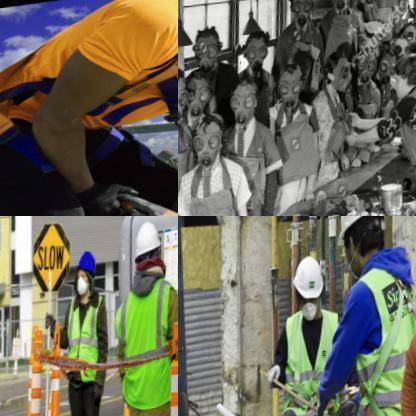Boots: (292, 252, 326, 304), (129, 216, 167, 260), (73, 247, 98, 273)
Glass: (333, 239, 415, 415), (119, 276, 176, 414), (280, 306, 342, 415), (61, 295, 105, 389)
